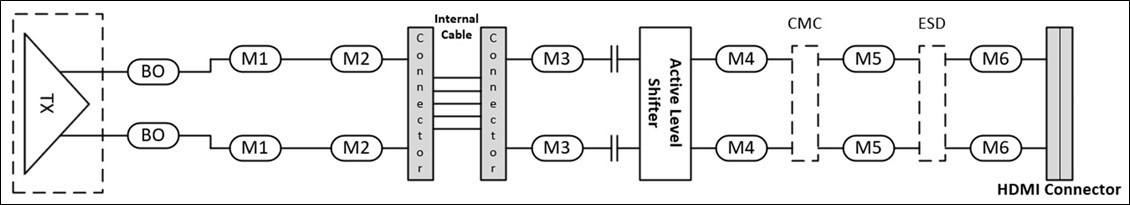capacitor: (608, 41, 621, 79), (607, 131, 621, 166)
dotted_rectangle: (9, 9, 107, 198), (788, 42, 823, 165), (916, 41, 949, 165)
oval: (838, 42, 898, 76), (712, 131, 770, 166), (839, 131, 898, 165), (228, 42, 284, 77), (712, 43, 771, 76), (966, 43, 1025, 76), (966, 131, 1025, 164), (528, 131, 587, 164), (328, 42, 385, 76), (125, 119, 182, 153), (530, 42, 585, 76), (124, 56, 182, 88), (226, 133, 284, 164), (328, 133, 383, 164)
rectangle: (634, 23, 696, 188), (1042, 23, 1077, 182), (403, 25, 436, 185), (478, 25, 510, 186)
triangle: (20, 29, 92, 180)
